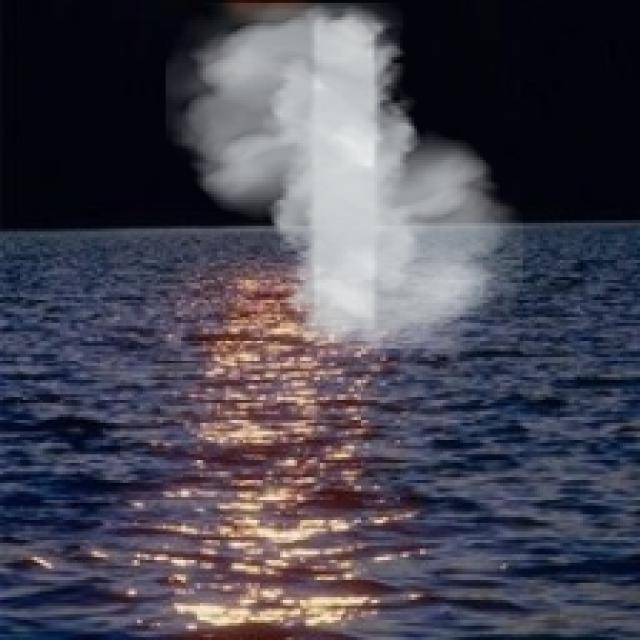Smoke: (166, 2, 523, 348)
